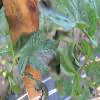Tomato leaf late blight: (9, 29, 67, 81)
